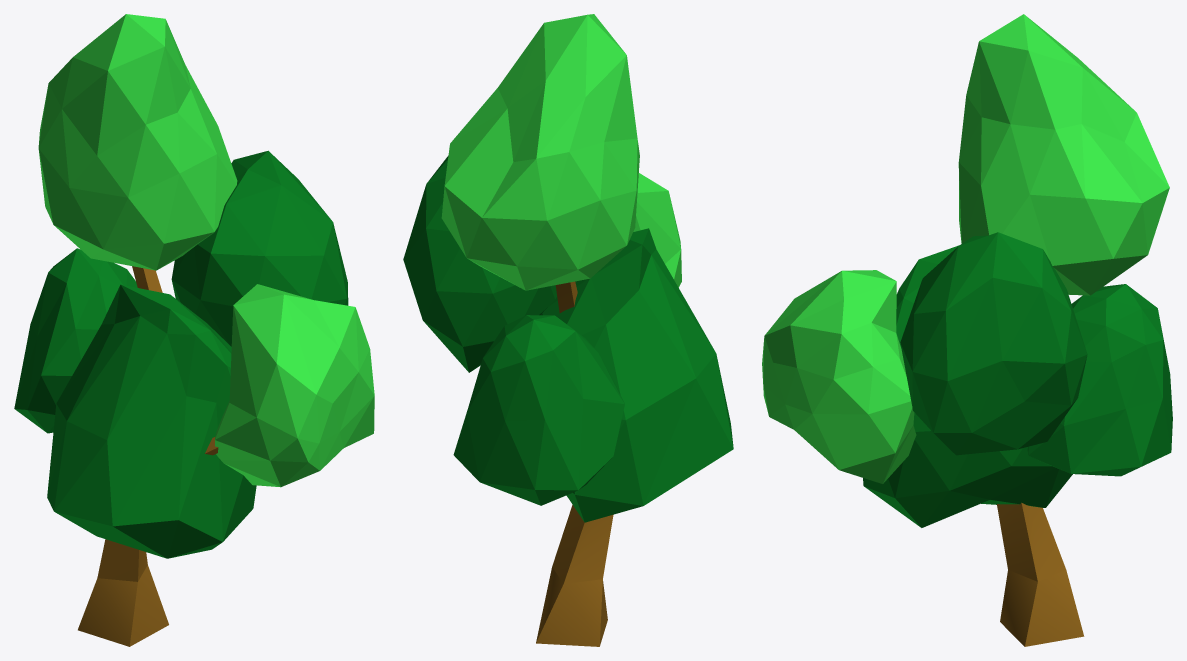
The model's file is tree5.glb.
3 renders of one model, left to right at view 1: azimuth 30°, elevation 25°; view 2: azimuth 150°, elevation 25°; view 3: azimuth 270°, elevation 25°, orthographic.
Parts seen in each view (by area): view 1: Icosphere.002; view 2: Icosphere.002; view 3: Icosphere.002.
Boxes of the visible parts, x1,y1,x2,y2 form: Icosphere.002: (14,14,374,646); Icosphere.002: (403,14,733,646); Icosphere.002: (762,14,1172,646).
Size of the model in its own units: 15.83 by 32.06 by 19.51.
